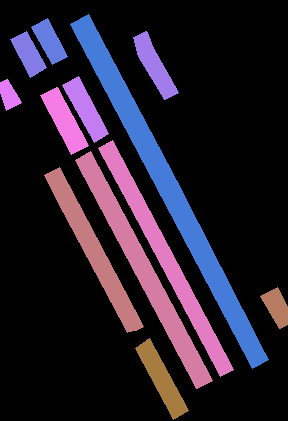parkingspot: (70, 14, 268, 368), (75, 151, 212, 388), (98, 140, 233, 376), (44, 167, 143, 332), (135, 338, 188, 419), (40, 87, 88, 154), (133, 31, 178, 99), (62, 76, 108, 142), (31, 18, 67, 64), (10, 31, 46, 77), (260, 287, 288, 328), (0, 79, 21, 110)
